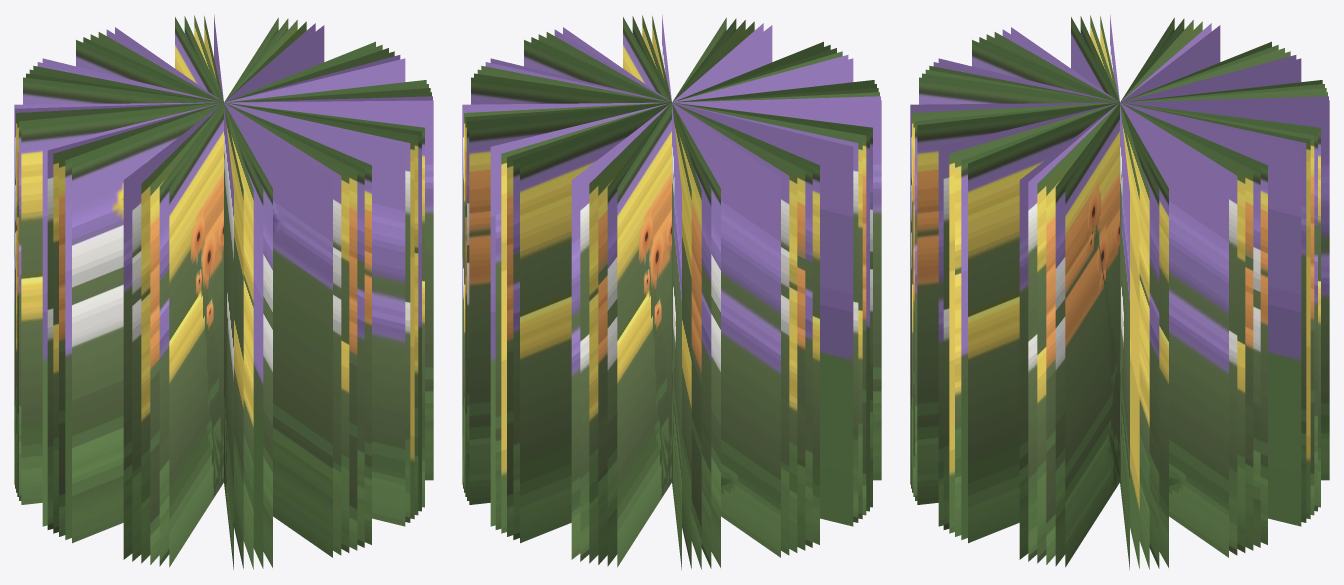
Rendered from flores_prado.glb.
3 renders of one model, left to right at view 1: azimuth 30°, elevation 25°; view 2: azimuth 150°, elevation 25°; view 3: azimuth 270°, elevation 25°, orthographic.
Visible parts, largest first — view 1: flor_naranja_2, flor_morada_1, flor_amarilla_2, flor_morada_0, flor_naranja_0, flor_blanca_2, flor_morada_2, flor_blanca_0, flor_naranja_1, flor_amarilla_1, flor_amarilla_0, flor_blanca_1; view 2: flor_naranja_2, flor_morada_1, flor_amarilla_2, flor_morada_0, flor_naranja_0, flor_blanca_2, flor_morada_2, flor_blanca_0, flor_naranja_1, flor_amarilla_1, flor_amarilla_0, flor_blanca_1; view 3: flor_naranja_2, flor_morada_1, flor_amarilla_2, flor_morada_0, flor_naranja_0, flor_blanca_2, flor_morada_2, flor_blanca_0, flor_naranja_1, flor_amarilla_1, flor_amarilla_0, flor_blanca_1.
Part boxes in pixels (bbox=[...]): flor_naranja_2: bbox=[21, 17, 426, 567]; flor_morada_1: bbox=[14, 25, 433, 559]; flor_amarilla_2: bbox=[23, 17, 424, 567]; flor_morada_0: bbox=[42, 58, 405, 526]; flor_naranja_0: bbox=[29, 15, 418, 569]; flor_blanca_2: bbox=[19, 18, 428, 566]; flor_morada_2: bbox=[26, 16, 421, 568]; flor_blanca_0: bbox=[37, 15, 410, 569]; flor_naranja_1: bbox=[17, 20, 430, 564]; flor_amarilla_1: bbox=[16, 21, 431, 563]; flor_amarilla_0: bbox=[33, 16, 414, 568]; flor_blanca_1: bbox=[15, 23, 432, 561]; flor_naranja_2: bbox=[469, 17, 874, 567]; flor_morada_1: bbox=[462, 25, 881, 559]; flor_amarilla_2: bbox=[471, 17, 872, 567]; flor_morada_0: bbox=[490, 58, 853, 526]; flor_naranja_0: bbox=[477, 15, 866, 569]; flor_blanca_2: bbox=[467, 18, 876, 566]; flor_morada_2: bbox=[474, 16, 869, 568]; flor_blanca_0: bbox=[485, 15, 858, 569]; flor_naranja_1: bbox=[465, 20, 878, 564]; flor_amarilla_1: bbox=[464, 21, 879, 563]; flor_amarilla_0: bbox=[481, 16, 862, 568]; flor_blanca_1: bbox=[463, 23, 880, 561]; flor_naranja_2: bbox=[917, 17, 1322, 567]; flor_morada_1: bbox=[910, 25, 1329, 559]; flor_amarilla_2: bbox=[919, 17, 1320, 567]; flor_morada_0: bbox=[938, 58, 1301, 526]; flor_naranja_0: bbox=[925, 15, 1314, 569]; flor_blanca_2: bbox=[915, 18, 1324, 566]; flor_morada_2: bbox=[922, 16, 1317, 568]; flor_blanca_0: bbox=[933, 15, 1306, 569]; flor_naranja_1: bbox=[913, 20, 1326, 564]; flor_amarilla_1: bbox=[912, 21, 1327, 563]; flor_amarilla_0: bbox=[929, 16, 1310, 568]; flor_blanca_1: bbox=[911, 23, 1328, 561].
Size of the model in its own units: 0.31 by 0.31 by 0.3099.
Materials: 1 (1 with a texture image).
